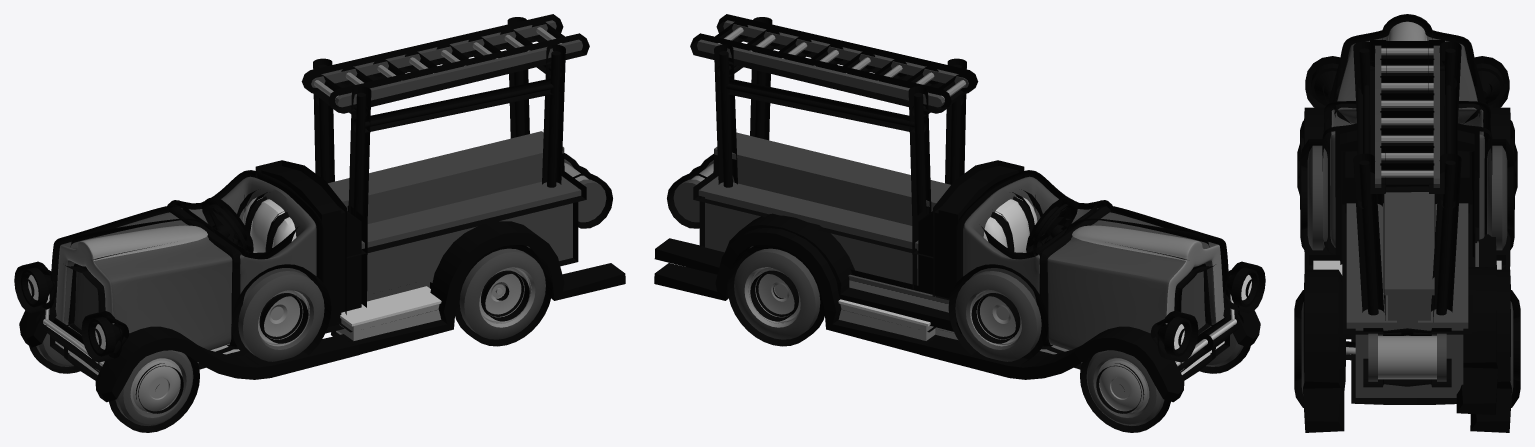
Rendered from FireFighterCa2r.fbx.
3 views of the same model, side by side, from view 1: azimuth 30°, elevation 25°; view 2: azimuth 150°, elevation 25°; view 3: azimuth 270°, elevation 25° (orthographic). The views are drawn at different scales.
Visible parts, largest first — view 1: Cube, Cube.001; view 2: Cube, Cube.001; view 3: Cube.001, Cube.
Boxes of the visible parts, box(x1,y1,x2,y2) form: Cube: box(20, 20, 606, 425); Cube.001: box(14, 14, 625, 432); Cube: box(673, 20, 1259, 425); Cube.001: box(654, 14, 1265, 432); Cube.001: box(1294, 14, 1520, 432); Cube: box(1301, 21, 1513, 397).
Bounding box in the file's own units: 543 × 260 × 179.
